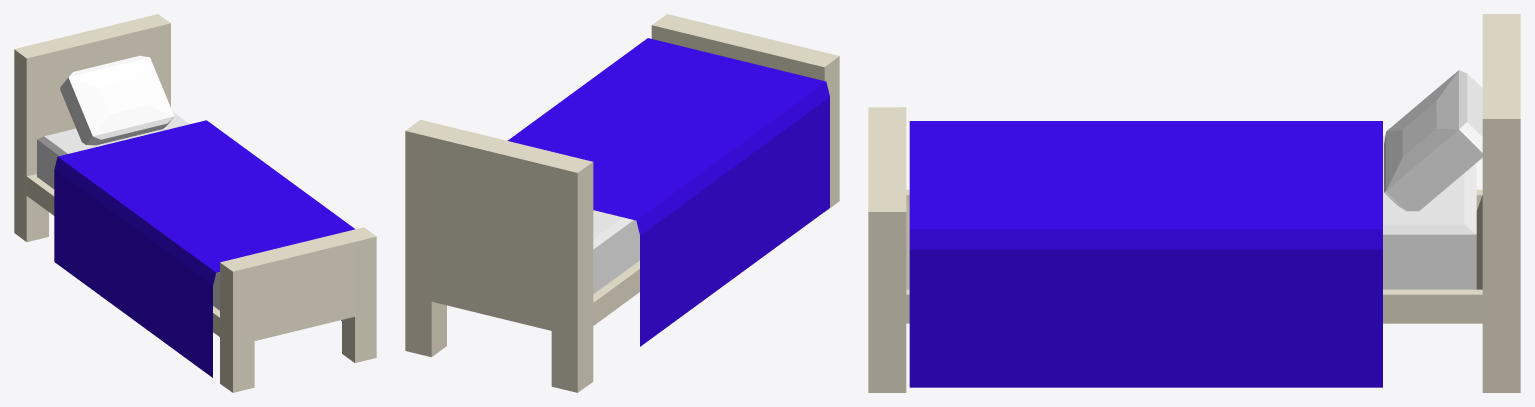
File: bed.dae
3 renders of one model, left to right at view 1: azimuth 30°, elevation 25°; view 2: azimuth 150°, elevation 25°; view 3: azimuth 270°, elevation 25°, orthographic. The views are drawn at different scales.
Visible parts, largest first — view 1: Cube_001; view 2: Cube_001; view 3: Cube_001.
Part boxes in pixels (bbox=[...]): Cube_001: bbox=[14, 14, 376, 392]; Cube_001: bbox=[405, 14, 839, 392]; Cube_001: bbox=[868, 14, 1520, 392].
Bounding box in the file's own units: 4.27 × 10.42 × 4.83.
